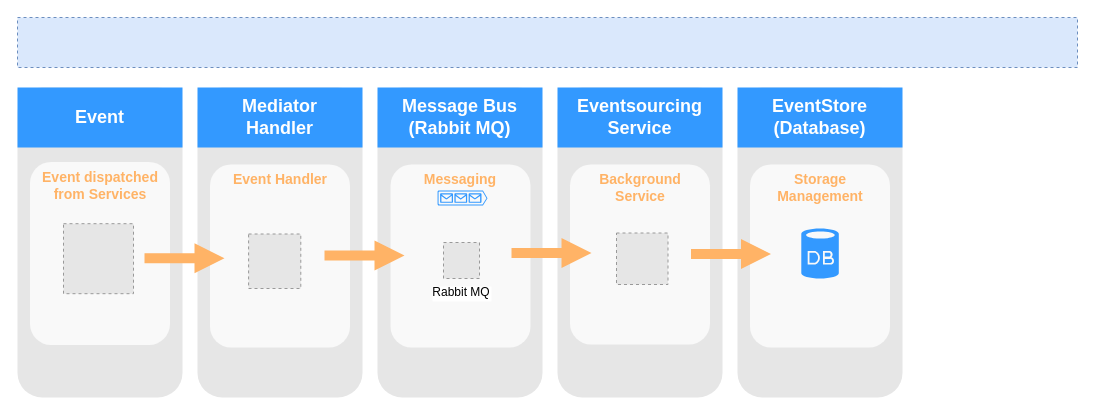
This 1095x415 diagram has some shape labels left out. Grey dashed boxes stand in for pictures. The shapes that lost their labels are listed below. From the top down, each one's centre as x and y in pixels, then its label:
At [547,42]: "Event sourcing - Diagram".
At [462,197]: "Queues".
At [819,253]: "Database".
